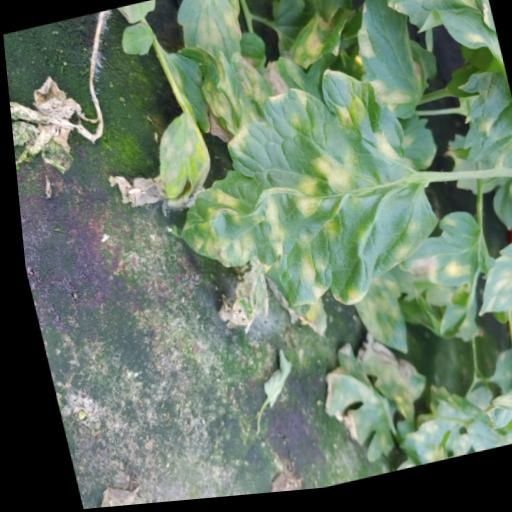Leaf Mold: (144, 58, 446, 344), (342, 0, 504, 104), (339, 0, 445, 134), (174, 33, 276, 148), (382, 214, 485, 308), (143, 111, 214, 206), (444, 77, 512, 173), (340, 272, 407, 369), (169, 0, 251, 74), (453, 234, 512, 328)
